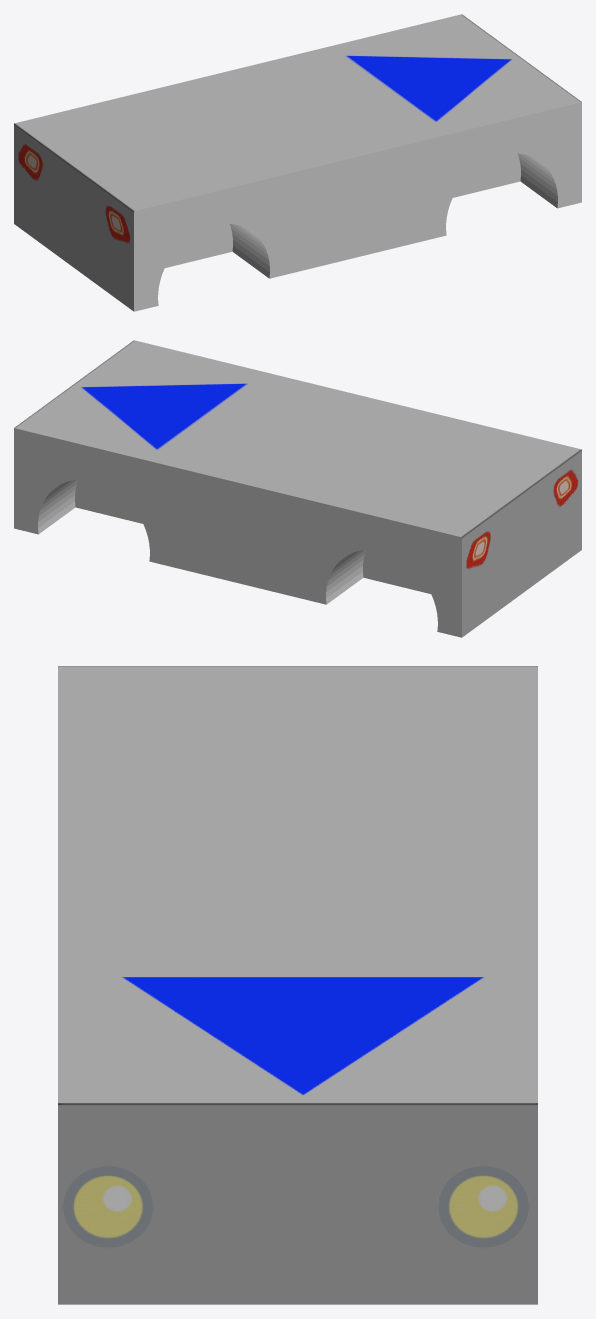
3 renders of one model, top to bottom at view 1: azimuth 30°, elevation 25°; view 2: azimuth 150°, elevation 25°; view 3: azimuth 270°, elevation 25°, orthographic. The views are drawn at different scales.
Parts seen in each view (by area): view 1: base_link; view 2: base_link; view 3: base_link.
Part boxes in pixels (box(x1,y1,x2,y2)): base_link: box(14, 14, 581, 311); base_link: box(14, 340, 581, 637); base_link: box(58, 666, 537, 1304).
Bounding box in the file's own units: 2.8 × 1.3 × 0.6.
2 materials, 1 textured.
